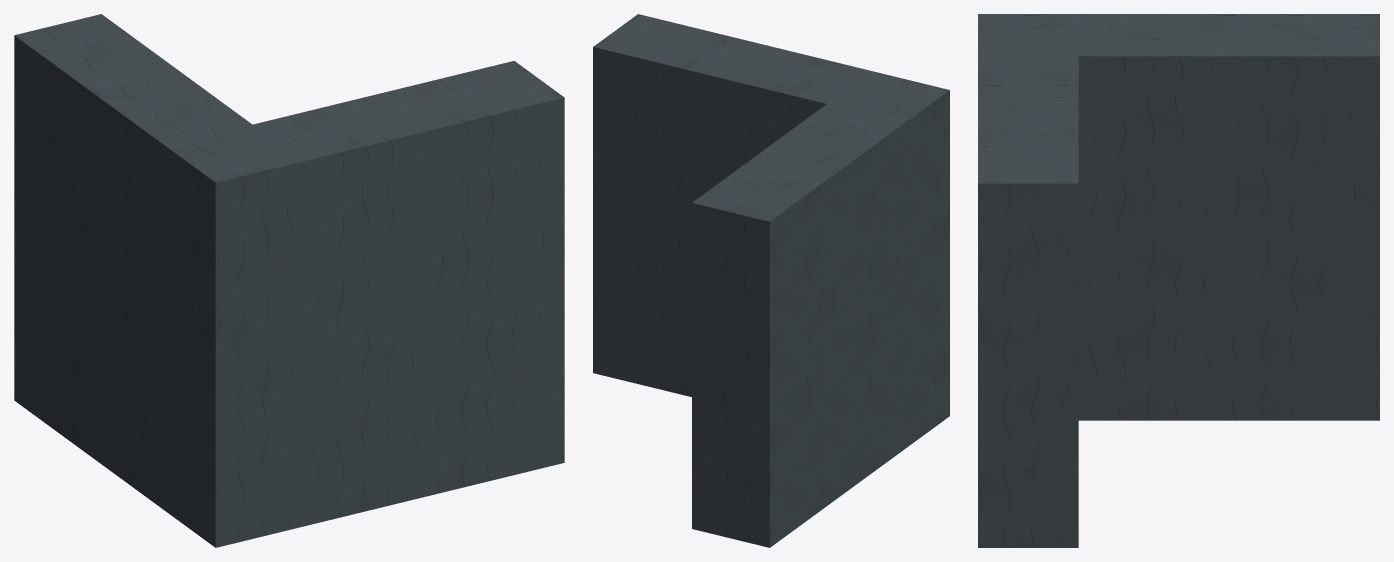
Rendered from Wall_OuterCorner.fbx.
The picture shows the model from 3 angles, left to right: view 1: azimuth 30°, elevation 25°; view 2: azimuth 150°, elevation 25°; view 3: azimuth 270°, elevation 25°; orthographic projection. The views are drawn at different scales.
Parts seen in each view (by area): view 1: COL_Foundry_Wall_OuterCorner_00_Both, COL_Foundry_Wall_OuterCorner_01_Both; view 2: COL_Foundry_Wall_OuterCorner_01_Both, COL_Foundry_Wall_OuterCorner_00_Both; view 3: COL_Foundry_Wall_OuterCorner_01_Both, COL_Foundry_Wall_OuterCorner_00_Both.
Boxes of the visible parts, <box> form: COL_Foundry_Wall_OuterCorner_00_Both: <box>165,61,564,547</box>; COL_Foundry_Wall_OuterCorner_01_Both: <box>14,14,251,510</box>; COL_Foundry_Wall_OuterCorner_01_Both: <box>692,104,904,547</box>; COL_Foundry_Wall_OuterCorner_00_Both: <box>593,14,949,448</box>; COL_Foundry_Wall_OuterCorner_01_Both: <box>1078,14,1379,420</box>; COL_Foundry_Wall_OuterCorner_00_Both: <box>978,14,1078,547</box>.
Size of what is drawn, in the model's own units: 4 by 4 by 4.
